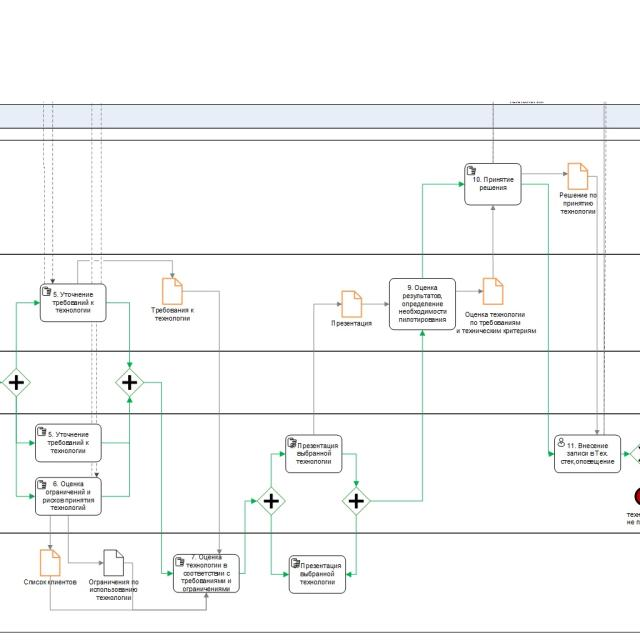arrow: (370, 332, 432, 507), (520, 177, 554, 460), (144, 379, 172, 580), (304, 296, 342, 436), (418, 178, 466, 279), (587, 171, 602, 435), (102, 396, 136, 502), (10, 396, 36, 501), (70, 258, 180, 279), (10, 298, 40, 367), (63, 517, 104, 567), (264, 515, 288, 579), (241, 493, 256, 578), (484, 207, 500, 278), (346, 516, 361, 581), (342, 450, 362, 486), (268, 446, 284, 486), (362, 296, 392, 312), (43, 512, 55, 551), (522, 168, 569, 177)
diamond: (342, 487, 370, 514), (116, 369, 143, 396), (3, 369, 29, 396), (259, 488, 285, 514)
rectangle: (390, 279, 455, 330), (554, 434, 621, 473), (34, 477, 101, 515), (464, 163, 522, 206), (174, 554, 239, 592), (40, 284, 106, 321), (35, 424, 101, 461), (285, 434, 342, 473), (289, 555, 346, 593)
text_region: (457, 304, 538, 337), (87, 574, 141, 603), (555, 188, 597, 217), (145, 302, 197, 325), (329, 314, 375, 331), (24, 575, 80, 588)
